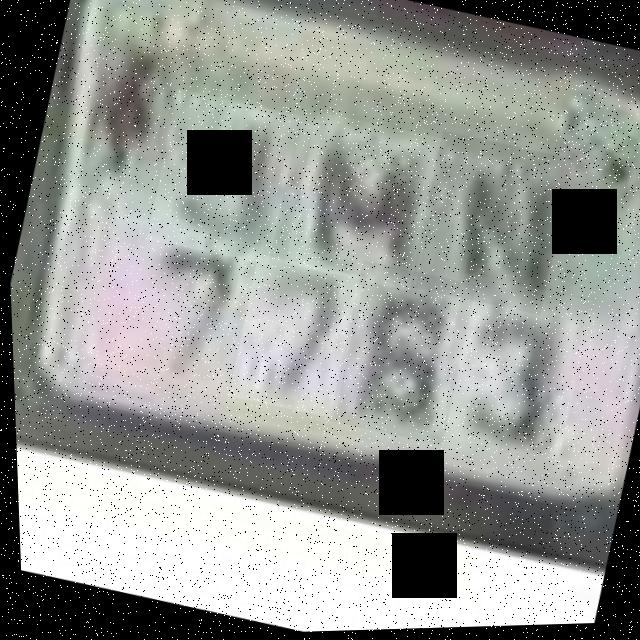3: (420, 273, 594, 468)
7: (99, 218, 266, 415), (221, 253, 365, 423)
8: (321, 260, 478, 450)
J: (140, 88, 302, 269)
N: (403, 130, 576, 321), (278, 110, 449, 297)
